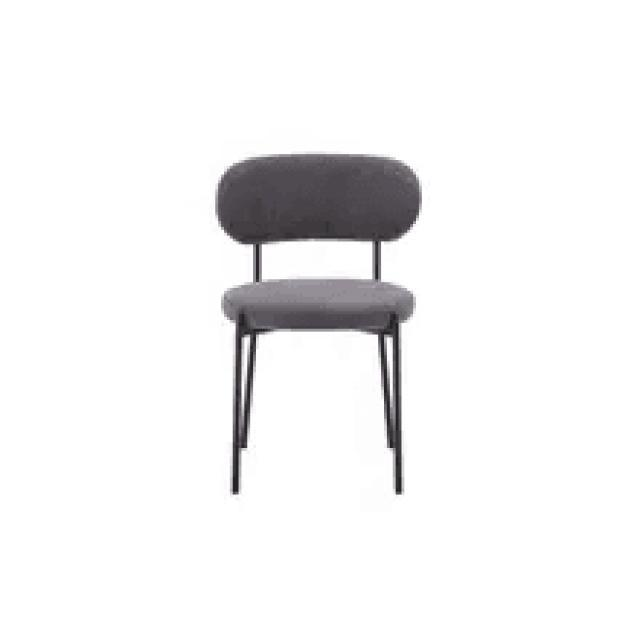chair: (214, 143, 420, 503), (216, 153, 422, 329)
